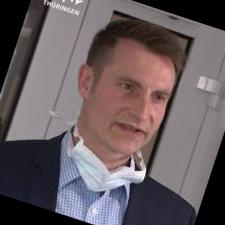mask_weared_incorrect: (86, 58, 171, 182)
